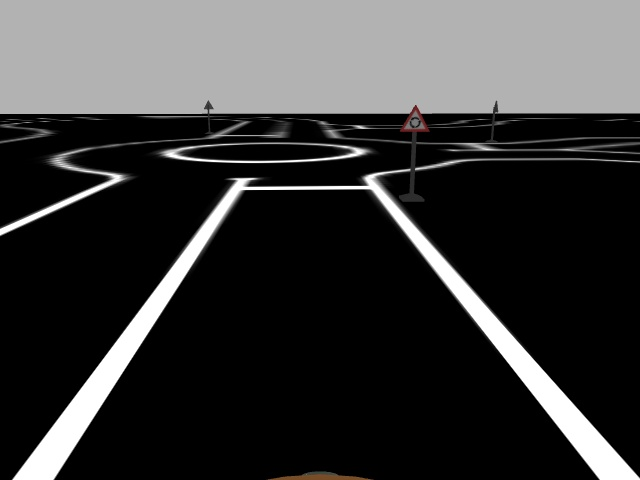roundabout: (399, 103, 430, 131)
